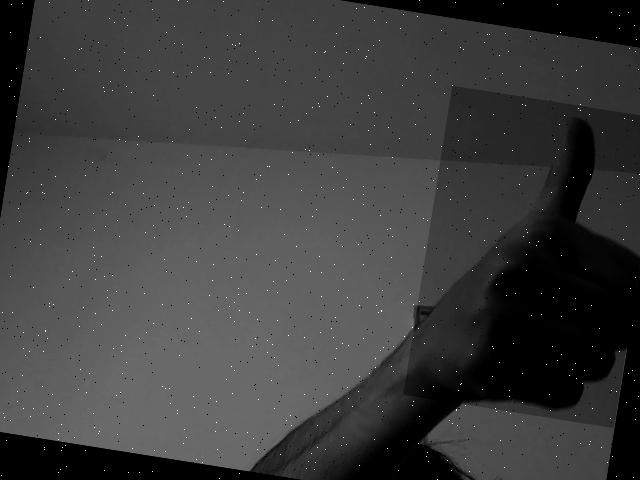good: (410, 107, 640, 412)
